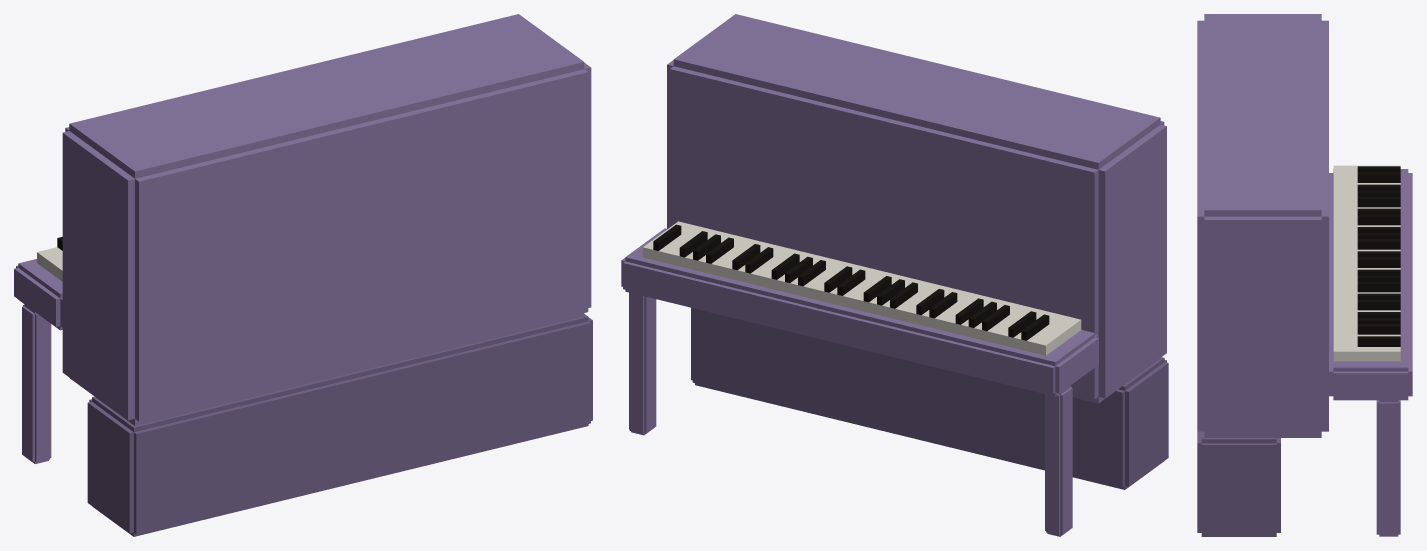
Rendered from ebonwood_piano_v0.glb.
The picture shows the model from 3 angles, left to right: view 1: azimuth 30°, elevation 25°; view 2: azimuth 150°, elevation 25°; view 3: azimuth 270°, elevation 25°; orthographic projection. The views are drawn at different scales.
Parts seen in each view (by area): view 1: ebonwood_piano_v0; view 2: ebonwood_piano_v0; view 3: ebonwood_piano_v0.
Part boxes in pixels (x1,y1,x2,y2): ebonwood_piano_v0: (14, 14, 592, 536); ebonwood_piano_v0: (621, 14, 1168, 536); ebonwood_piano_v0: (1197, 14, 1412, 536).
Bounding box in the file's own units: 2 × 1.5 × 0.9.
